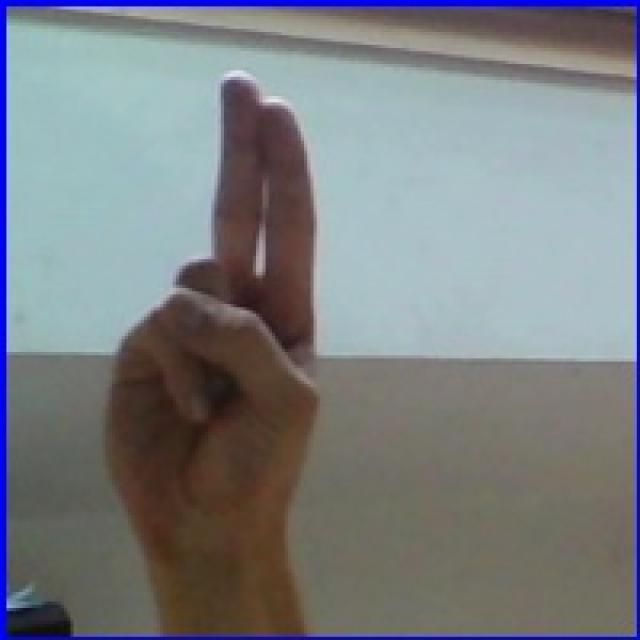Letra-U: (84, 47, 357, 556)
